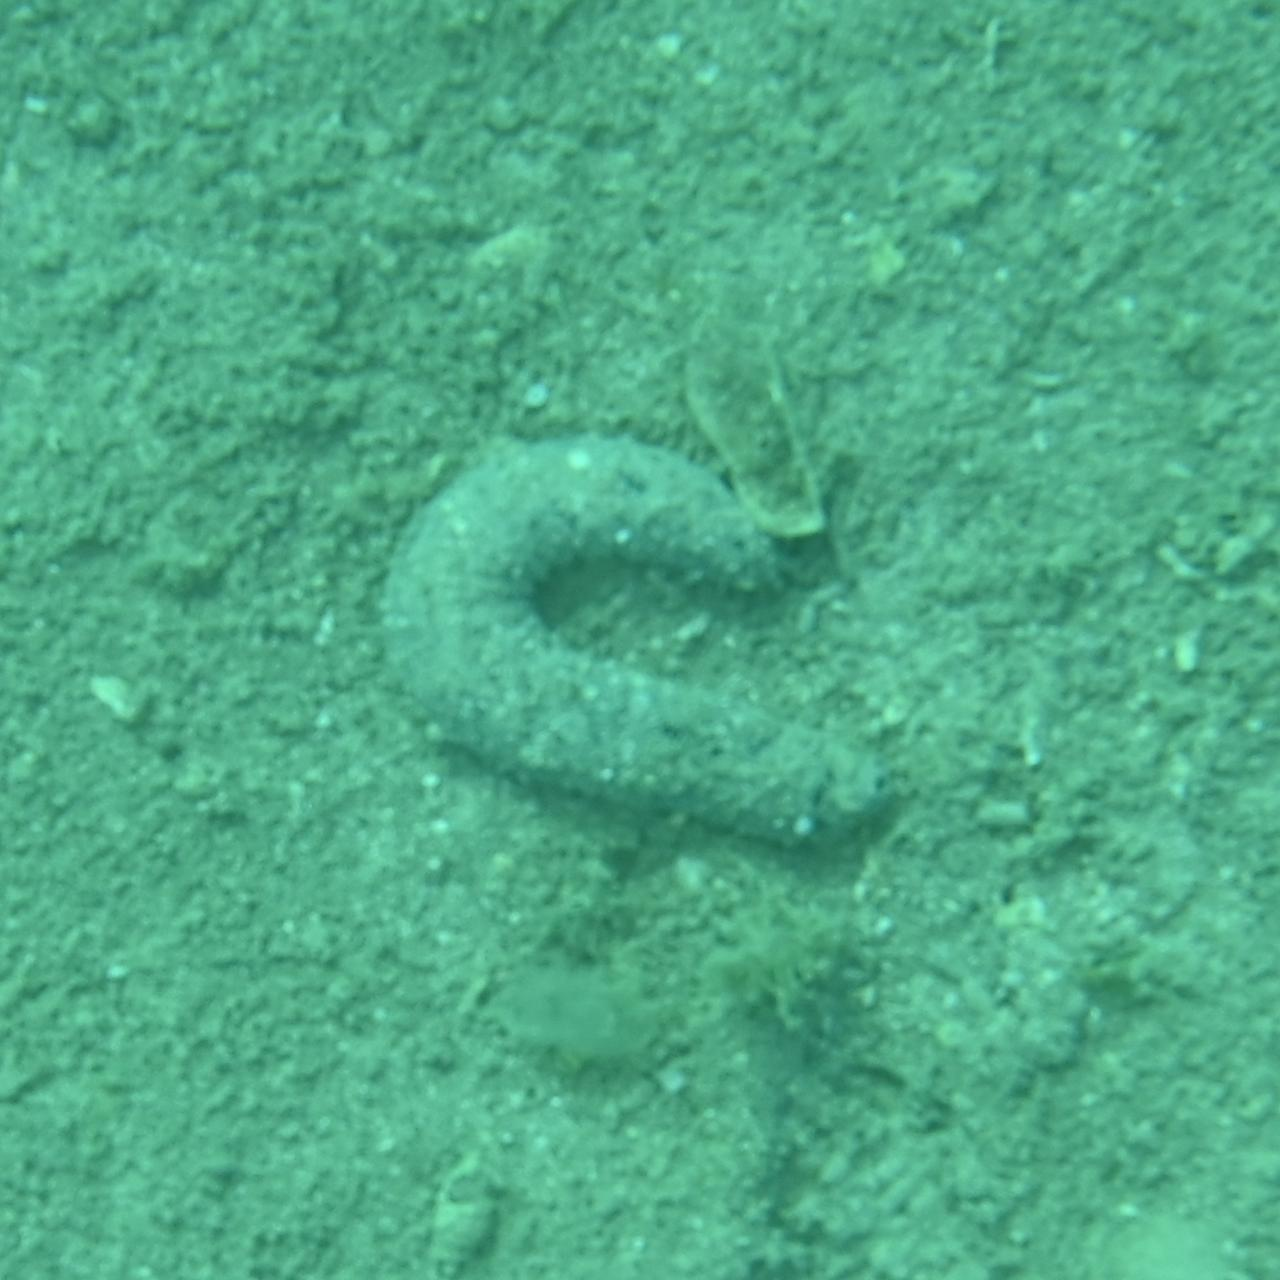Holothuria tubulosa: (371, 428, 909, 852)
